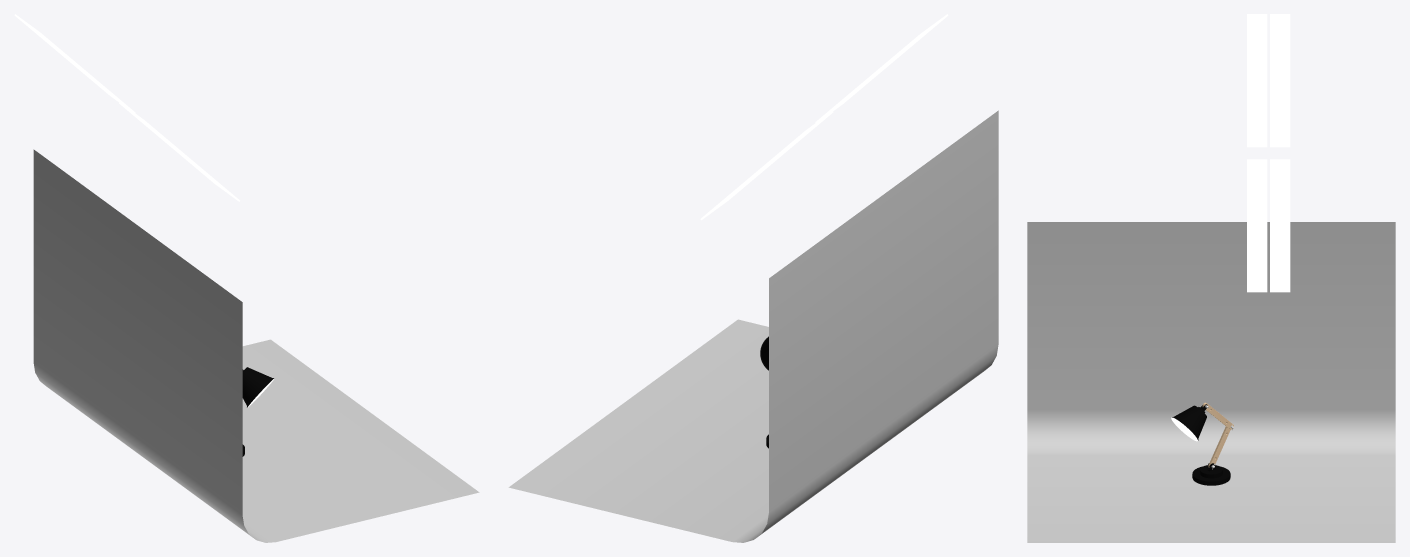
The model's file is lamp.glb.
The picture shows the model from 3 angles, left to right: view 1: azimuth 30°, elevation 25°; view 2: azimuth 150°, elevation 25°; view 3: azimuth 270°, elevation 25°; orthographic projection. The views are drawn at different scales.
Visible parts, largest first — view 1: Backdrop, LightPanels, LampCone; view 2: Backdrop, LightPanels; view 3: Backdrop, LightPanels, LampCone, LampBase.
Part boxes in pixels (x1,y1,x2,y2): Backdrop: [33, 149, 479, 542]; LightPanels: [14, 14, 239, 201]; LampCone: [242, 367, 274, 407]; Backdrop: [508, 110, 998, 542]; LightPanels: [700, 14, 948, 220]; Backdrop: [1027, 222, 1395, 542]; LightPanels: [1247, 14, 1290, 292]; LampCone: [1171, 404, 1207, 441]; LampBase: [1192, 463, 1230, 485].
Bounding box in the file's own units: 21.33 × 28.76 × 24.42.
Materials: 6 (1 with a texture image).
